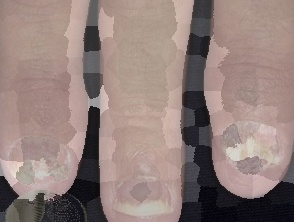Nail_psoriasis: (216, 115, 293, 183), (5, 133, 73, 187), (108, 176, 172, 218)
